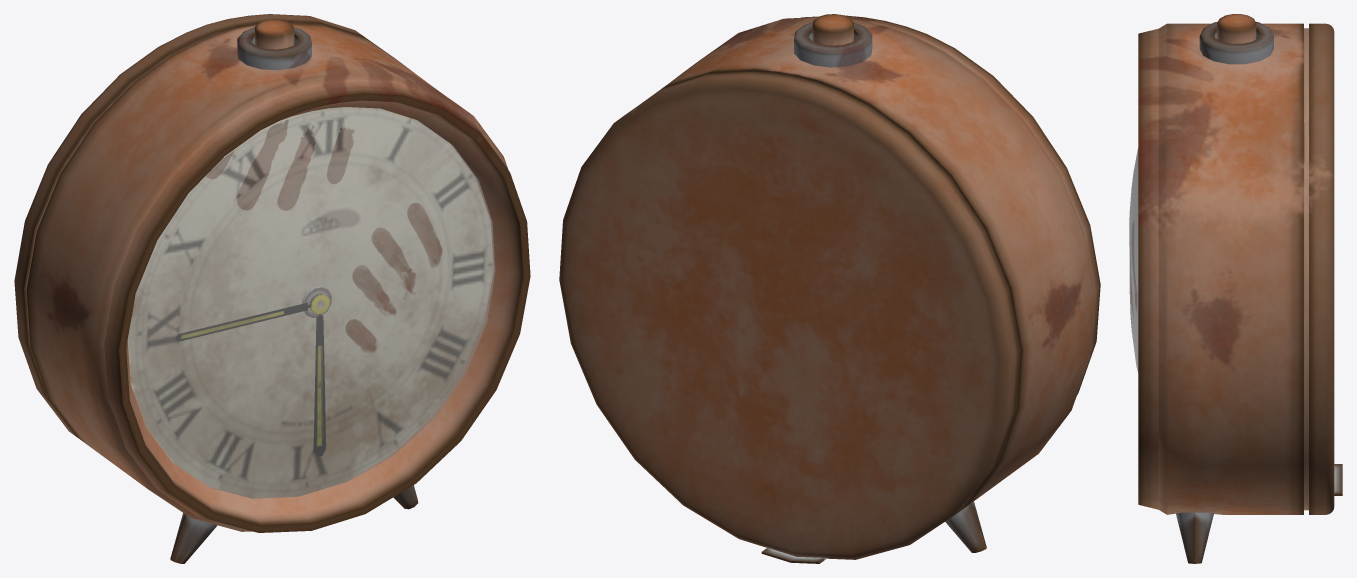
The model's file is retro_antique_desk_clock.glb.
3 views of the same model, side by side, from view 1: azimuth 30°, elevation 25°; view 2: azimuth 150°, elevation 25°; view 3: azimuth 270°, elevation 25° (orthographic). The views are drawn at different scales.
Visible parts, largest first — view 1: Cylinder, glass, Plane.001, Plane; view 2: Cylinder; view 3: Cylinder, glass.
Boxes of the visible parts, x1=… form: Cylinder: x1=14, y1=14, x2=530, y2=563; glass: x1=128, y1=108, x2=495, y2=498; Plane.001: x1=313, y1=314, x2=326, y2=456; Plane: x1=175, y1=302, x2=310, y2=341; Cylinder: x1=559, y1=14, x2=1100, y2=563; Cylinder: x1=1138, y1=14, x2=1342, y2=563; glass: x1=1129, y1=148, x2=1138, y2=372.
Bounding box in the file's own units: 15.39 × 16.9 × 6.69.
3 materials, 3 textured.
